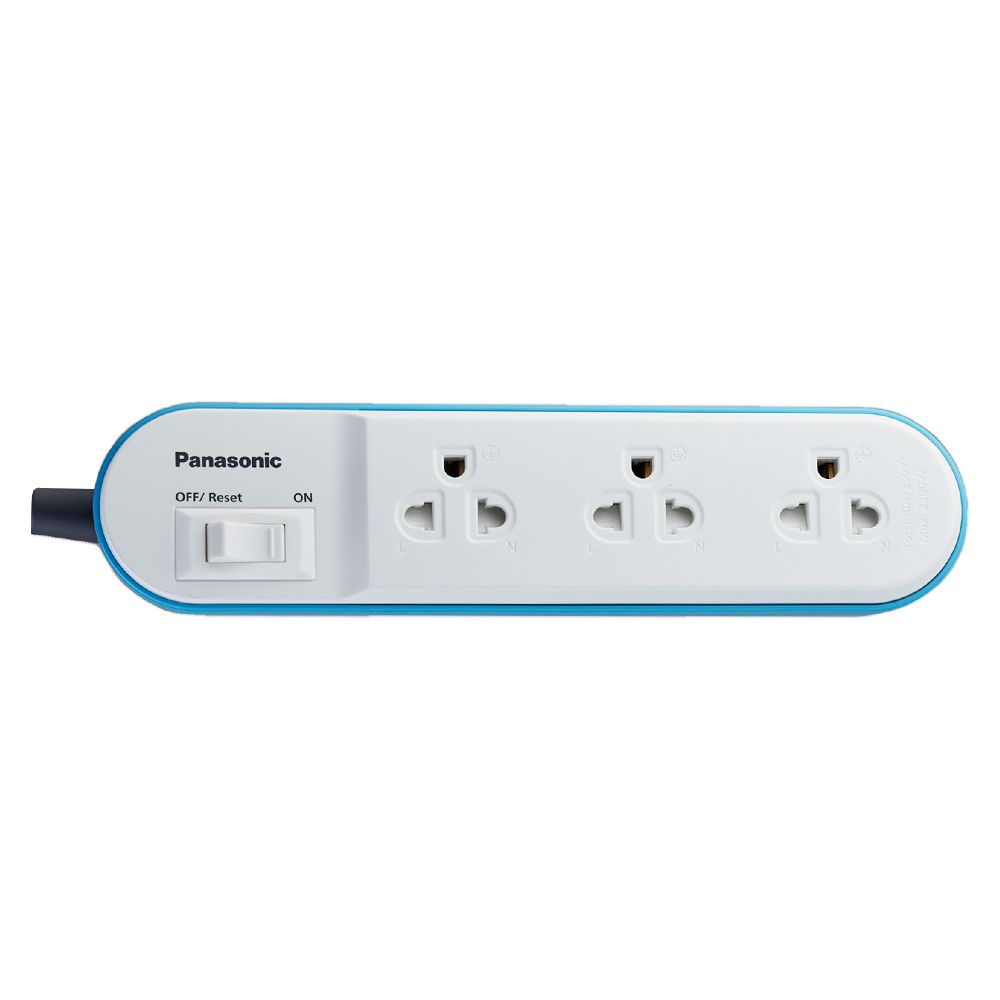Three_eye_plug: (80, 389, 983, 642)
